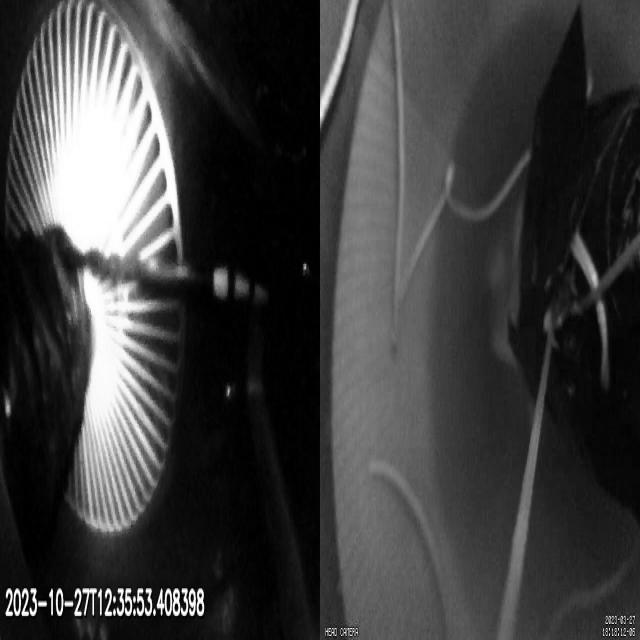white-dots: (211, 266, 268, 304)
